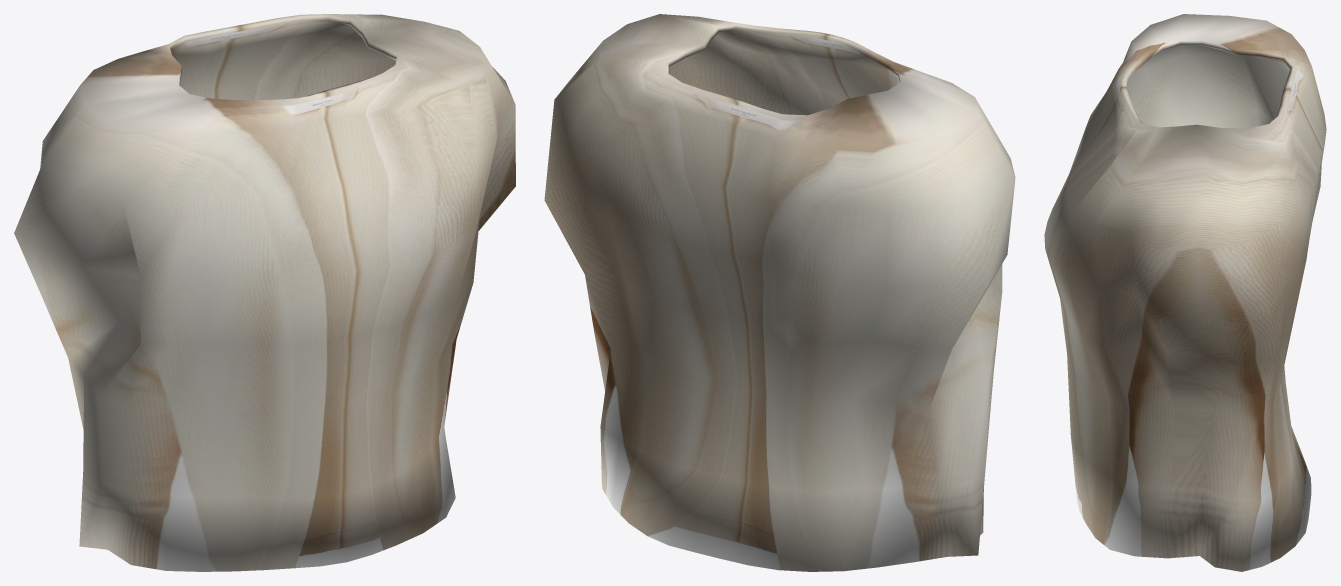
Rendered from 5c9909c5-6039-4b9a-b970-51eda1f9ab94.glb.
3 renders of one model, left to right at view 1: azimuth 30°, elevation 25°; view 2: azimuth 150°, elevation 25°; view 3: azimuth 270°, elevation 25°, orthographic. The views are drawn at different scales.
Visible parts, largest first — view 1: garment; view 2: garment; view 3: garment.
Part boxes in pixels (bbox=[...]): garment: bbox=[14, 14, 515, 571]; garment: bbox=[544, 14, 1015, 571]; garment: bbox=[1044, 14, 1326, 571].
Bounding box in the file's own units: 0.5553 × 0.5327 × 0.3229.
1 material, 1 textured.
